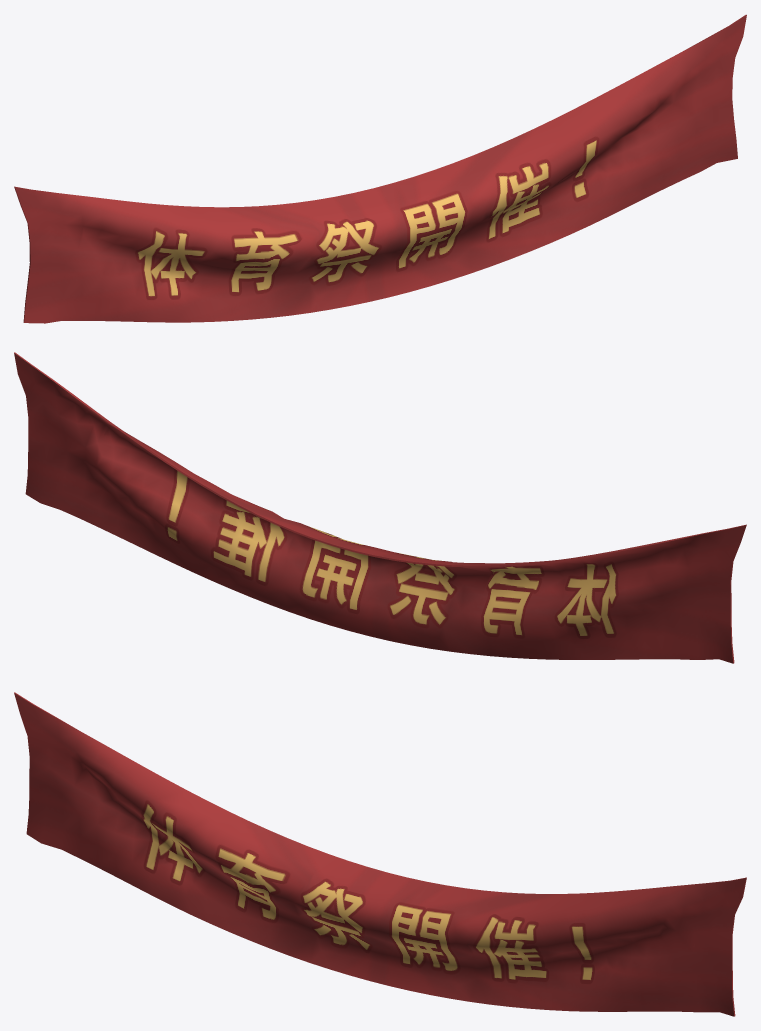
File: SM_banner_sportfestival.fbx
3 renders of one model, top to bottom at view 1: azimuth 30°, elevation 25°; view 2: azimuth 150°, elevation 25°; view 3: azimuth 330°, elevation 25°, orthographic.
Parts seen in each view (by area): view 1: banner04; view 2: banner04; view 3: banner04.
Boxes of the visible parts, box(x1,y1,x2,y2) form: banner04: box(14, 14, 746, 323); banner04: box(14, 352, 746, 663); banner04: box(14, 692, 746, 1016).
Size of the model in its own units: 135 by 35.69 by 8.81.
1 material, 1 textured.
